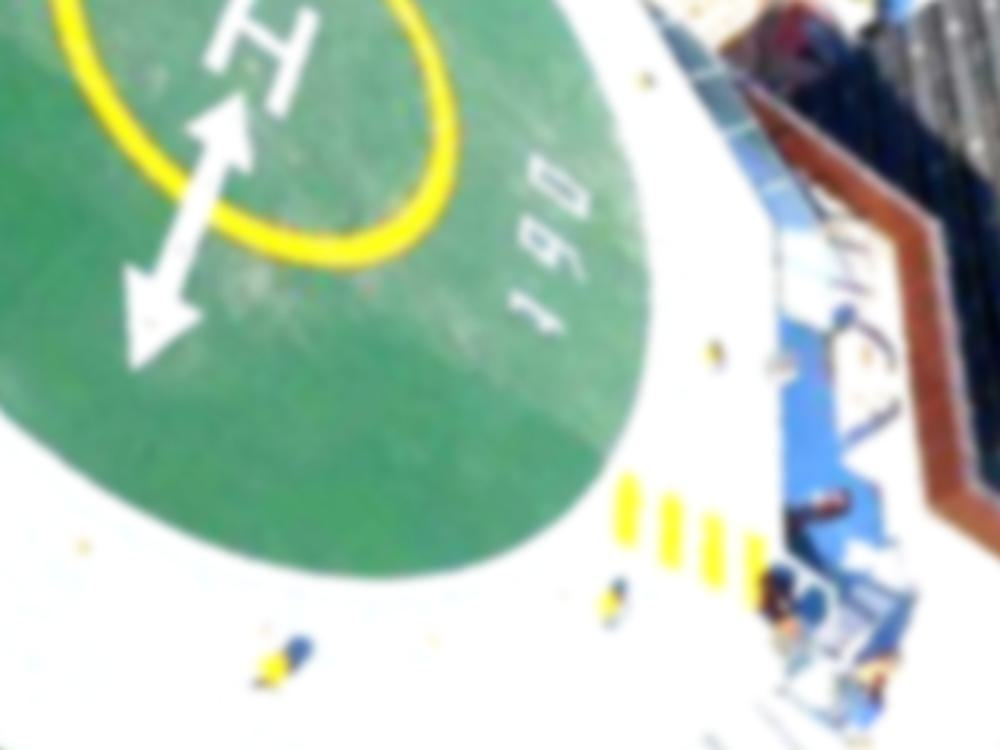Apron: (41, 1, 443, 241)
